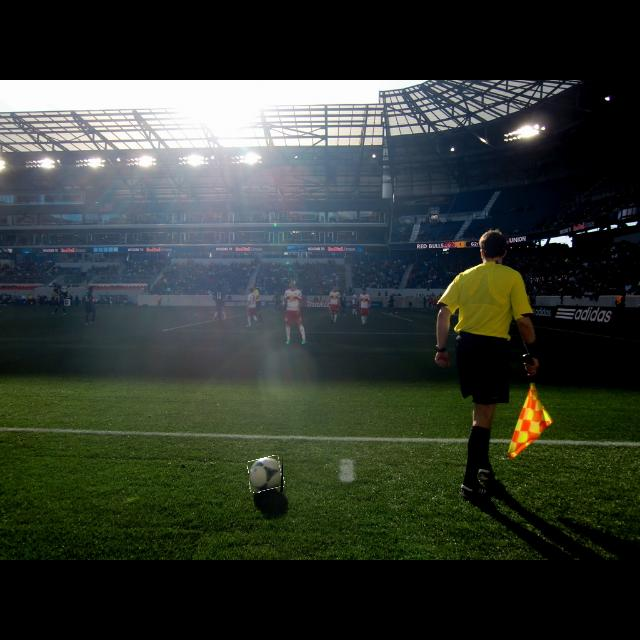Football: (249, 456, 283, 492)
